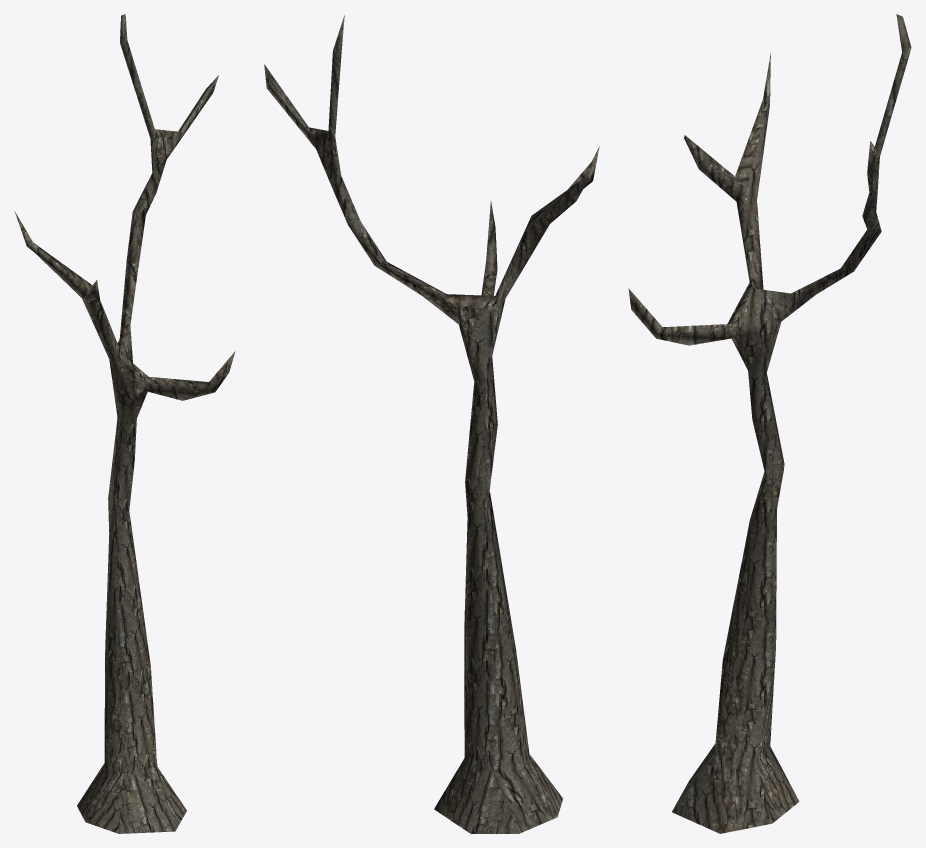
Rendered from tree_dead_4.glb.
3 views of the same model, side by side, from view 1: azimuth 30°, elevation 25°; view 2: azimuth 150°, elevation 25°; view 3: azimuth 270°, elevation 25° (orthographic). The views are drawn at different scales.
Parts seen in each view (by area): view 1: tree_dead_4; view 2: tree_dead_4; view 3: tree_dead_4.
Boxes of the visible parts, x1,y1,x2,y2 form: tree_dead_4: (14, 14, 235, 833); tree_dead_4: (264, 15, 599, 833); tree_dead_4: (628, 14, 911, 833).
Bounding box in the file's own units: 2.93 × 8.27 × 2.56.
1 material, 1 textured.
